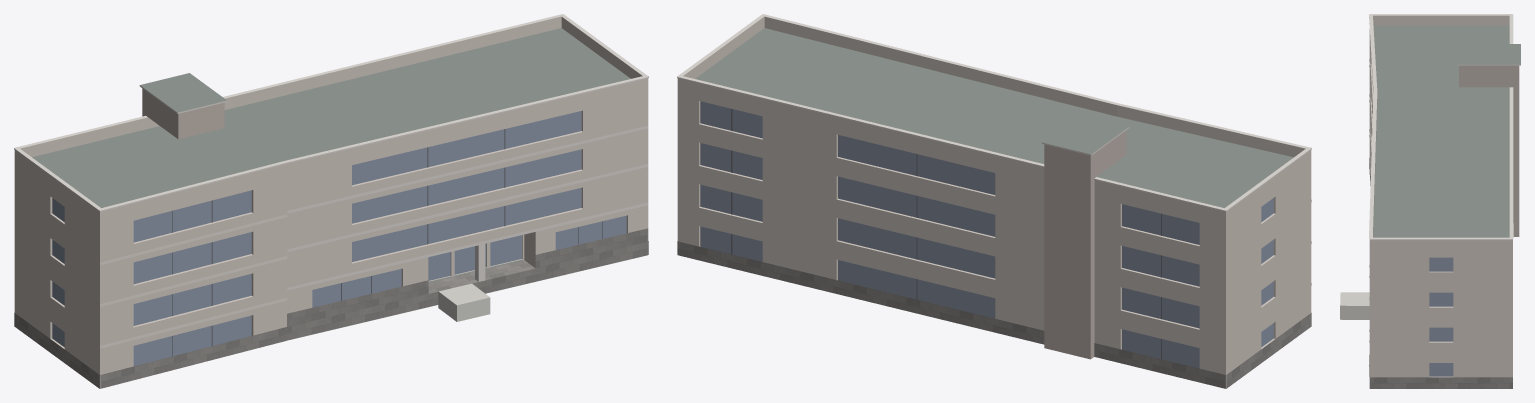
The picture shows the model from 3 angles, left to right: view 1: azimuth 30°, elevation 25°; view 2: azimuth 150°, elevation 25°; view 3: azimuth 270°, elevation 25°; orthographic projection. The views are drawn at different scales.
Parts seen in each view (by area): view 1: b919A__wall, b919A__roof, b919A__glass, b919A__parapet, b919A__base, b919A__trim, b919A__wall2, b919A__entranceStair, b919A__frame; view 2: b919A__wall, b919A__roof, b919A__glass, b919A__parapet, b919A__wall2, b919A__base, b919A__trim; view 3: b919A__roof, b919A__wall, b919A__trim, b919A__parapet, b919A__wall2, b919A__base, b919A__glass, b919A__entranceStair.
Boxes of the visible parts, box(x1,y1,x2,y2) form: b919A__wall: box(14, 88, 648, 388); b919A__roof: box(32, 28, 647, 340); b919A__glass: box(52, 111, 626, 366); b919A__parapet: box(14, 16, 648, 221); b919A__base: box(14, 228, 648, 388); b919A__trim: box(14, 14, 648, 348); b919A__wall2: box(142, 88, 224, 139); b919A__entranceStair: box(438, 283, 490, 321); b919A__frame: box(172, 129, 602, 356); b919A__wall: box(677, 88, 1311, 388); b919A__roof: box(695, 28, 1293, 207); b919A__glass: box(700, 101, 1273, 368); b919A__parapet: box(677, 16, 1311, 221); b919A__wall2: box(1044, 130, 1126, 359); b919A__base: box(677, 241, 1311, 388); b919A__trim: box(677, 14, 1311, 285); b919A__roof: box(1373, 25, 1520, 237); b919A__wall: box(1369, 30, 1512, 377); b919A__trim: box(1369, 14, 1520, 342); b919A__parapet: box(1369, 15, 1512, 248); b919A__wall2: box(1459, 65, 1519, 236); b919A__base: box(1369, 158, 1512, 388); b919A__glass: box(1429, 257, 1453, 376); b919A__entranceStair: box(1340, 292, 1369, 319).
Bounding box in the file's own units: 49.63 × 18.09 × 16.83.
Materials: 11 (1 with a texture image).
